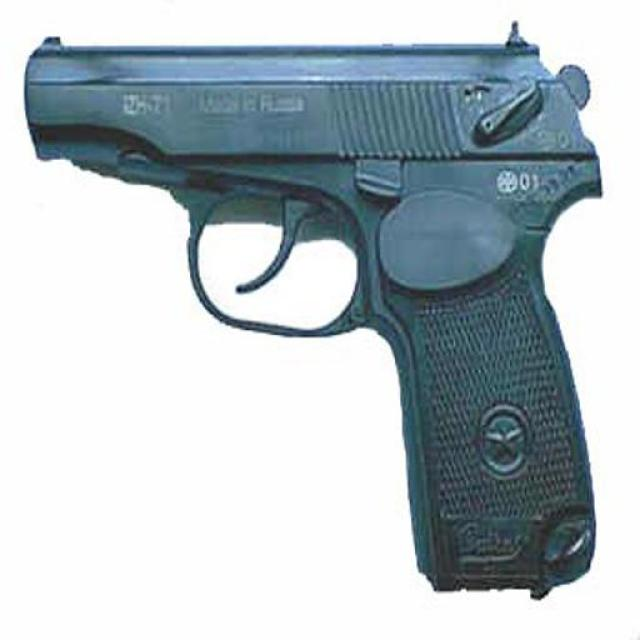pistol: (25, 20, 605, 597)
